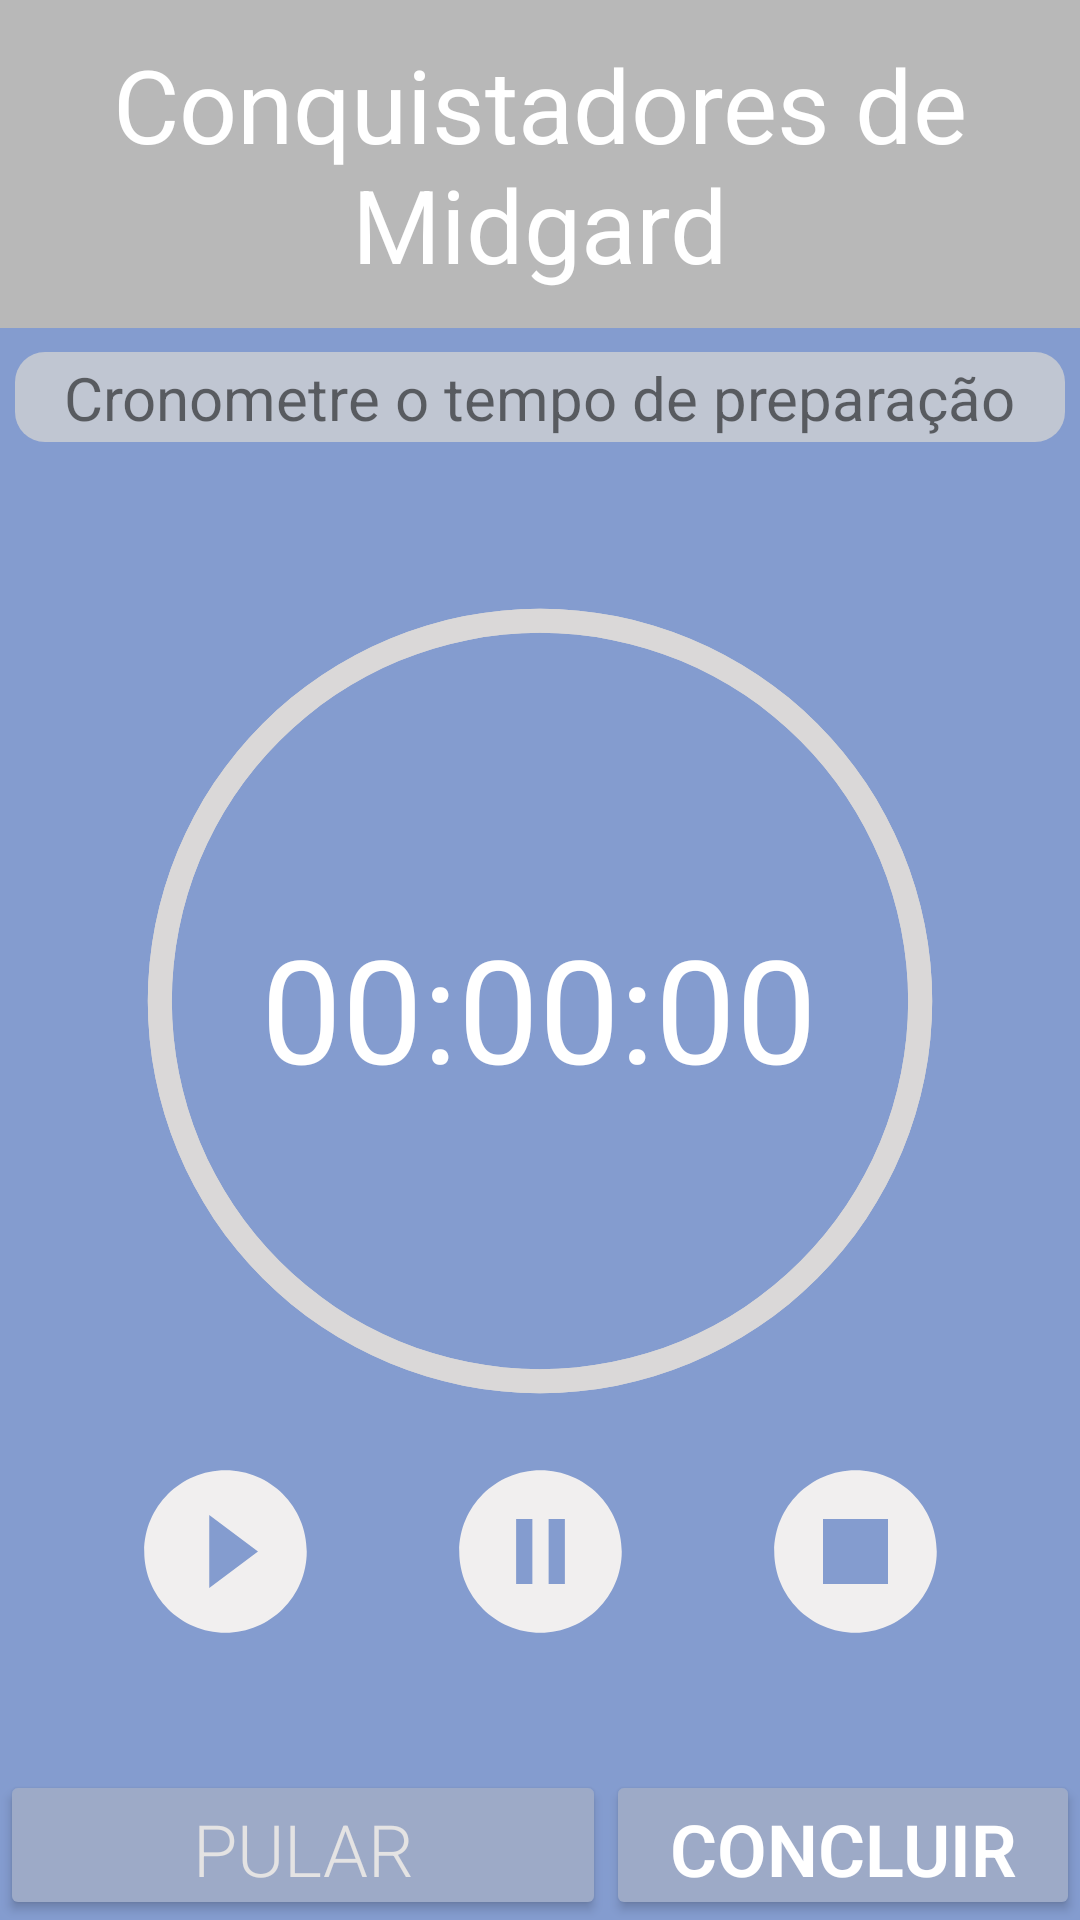

Where icons sit on this 1080w x 1920h app screen, as (x1, y1, x2, y2):
pause: (459, 1470, 622, 1633)
play: (144, 1470, 307, 1633)
stop: (774, 1470, 937, 1633)
